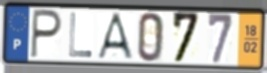0: (135, 11, 166, 64)
7: (170, 11, 201, 65), (206, 11, 234, 66)
A: (95, 11, 136, 61)
L: (68, 11, 94, 59)
P: (29, 7, 64, 61)
